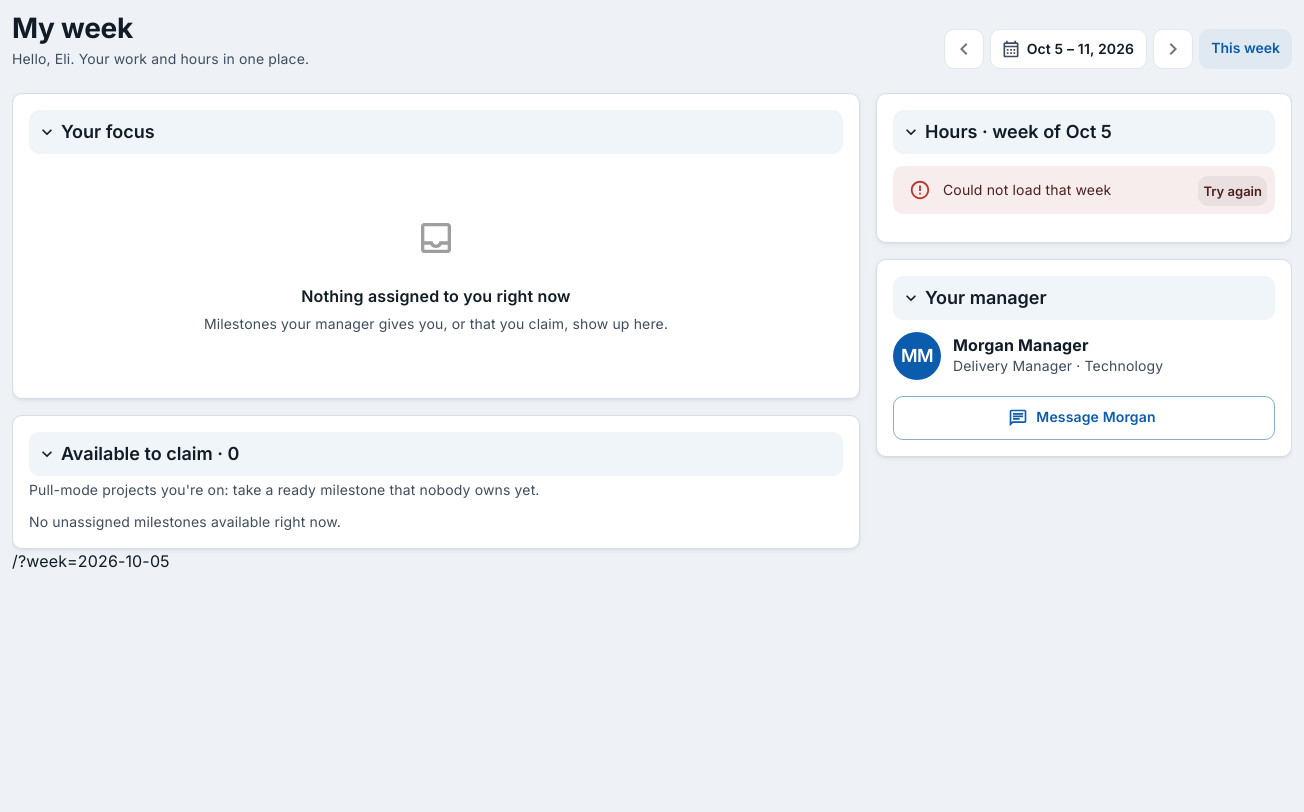
it: This week's hours › a failed week shows the error with Try again inside the card, and retrying loads it
expect the message shows "Could not load that week": met, box x1=943 y1=181 x2=1111 y2=198
Click the button "Try again" at (1233, 191), box x1=1198 y1=176 x2=1267 y2=206
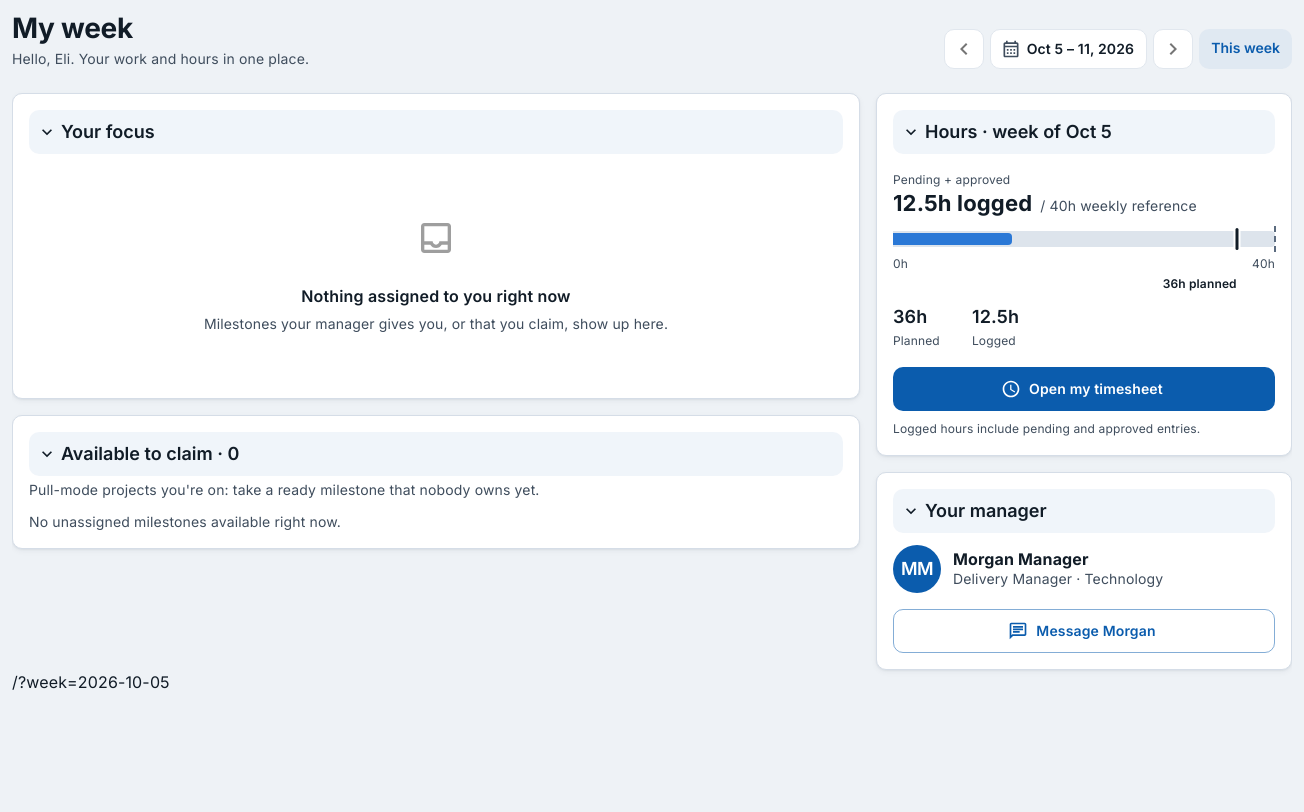
expect the text "12.5h logged" is shown: met, box x1=893 y1=190 x2=1032 y2=216
